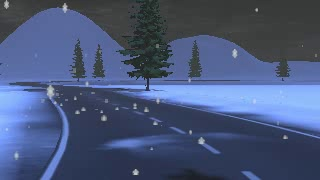Lane: (12, 81, 319, 179)
